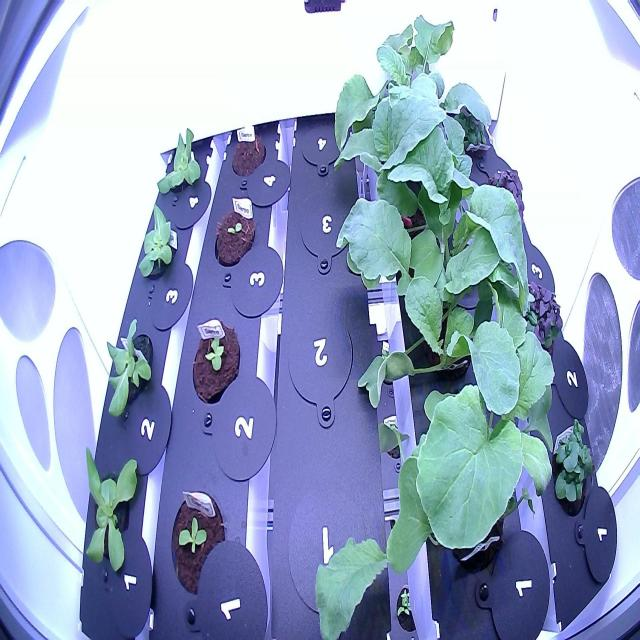empty_pod: (282, 469, 376, 628), (286, 295, 358, 435), (296, 178, 352, 280), (296, 115, 349, 181)
germination: (210, 197, 259, 273)
pod: (227, 125, 269, 185)
young: (71, 441, 147, 595), (161, 468, 233, 606), (97, 305, 163, 435), (183, 310, 243, 410), (132, 195, 186, 288), (153, 118, 206, 206)
